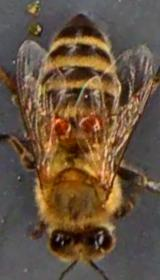varroa_mite: (76, 106, 105, 138), (50, 111, 71, 137)
